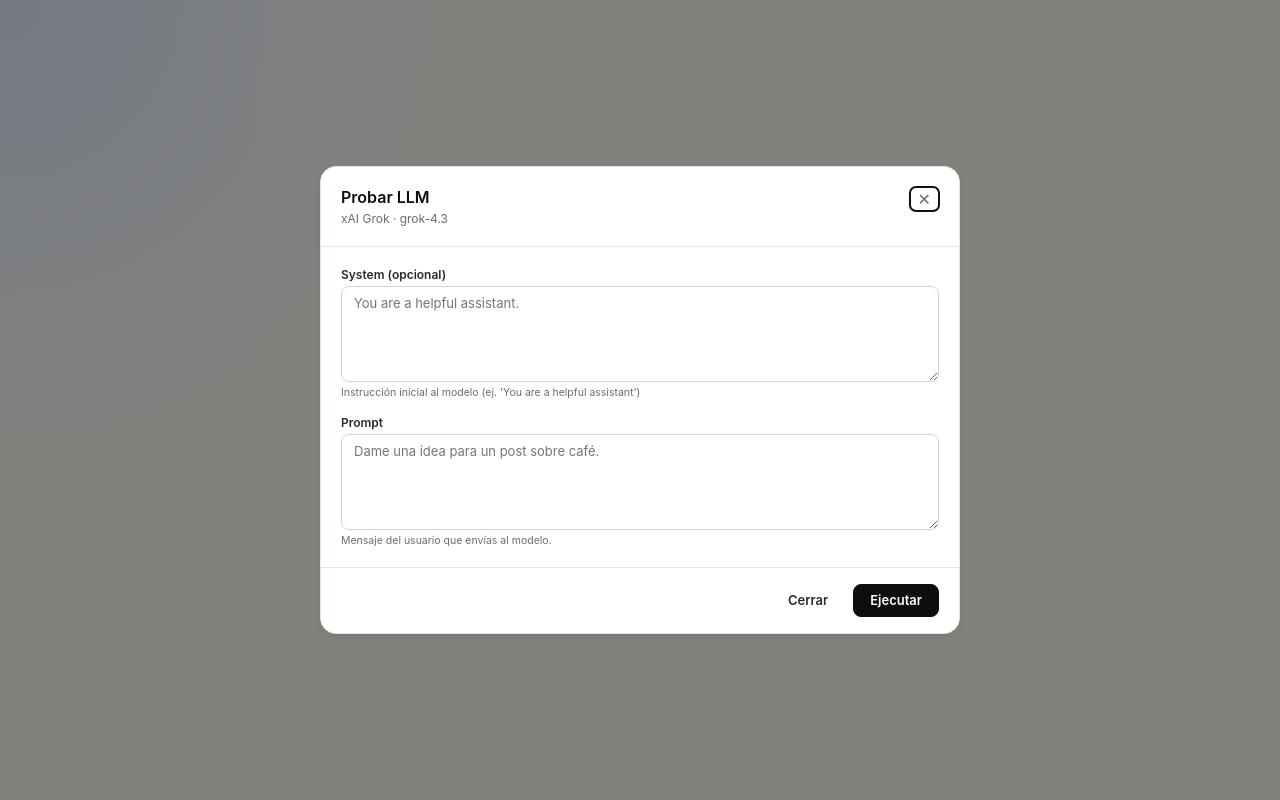
it: <TestProviderModal/> — render › LLM modality: prompt + system inputs, ejecuta y muestra resultado text
Type "Hola" into the text box with placeholder "Dame una idea para un post sobre café." at (640, 482), box [341,434,939,530]
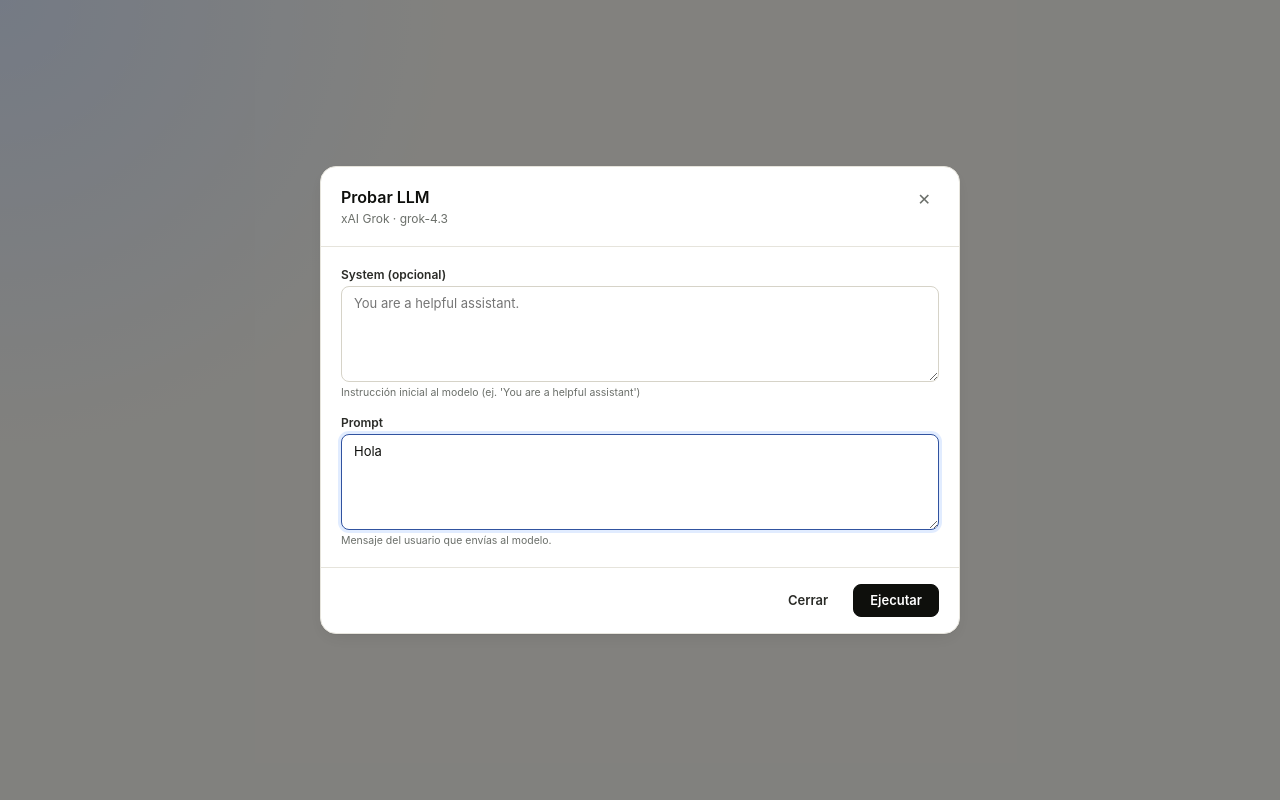
Click the button "Ejecutar" at (896, 600), box [853,584,939,617]
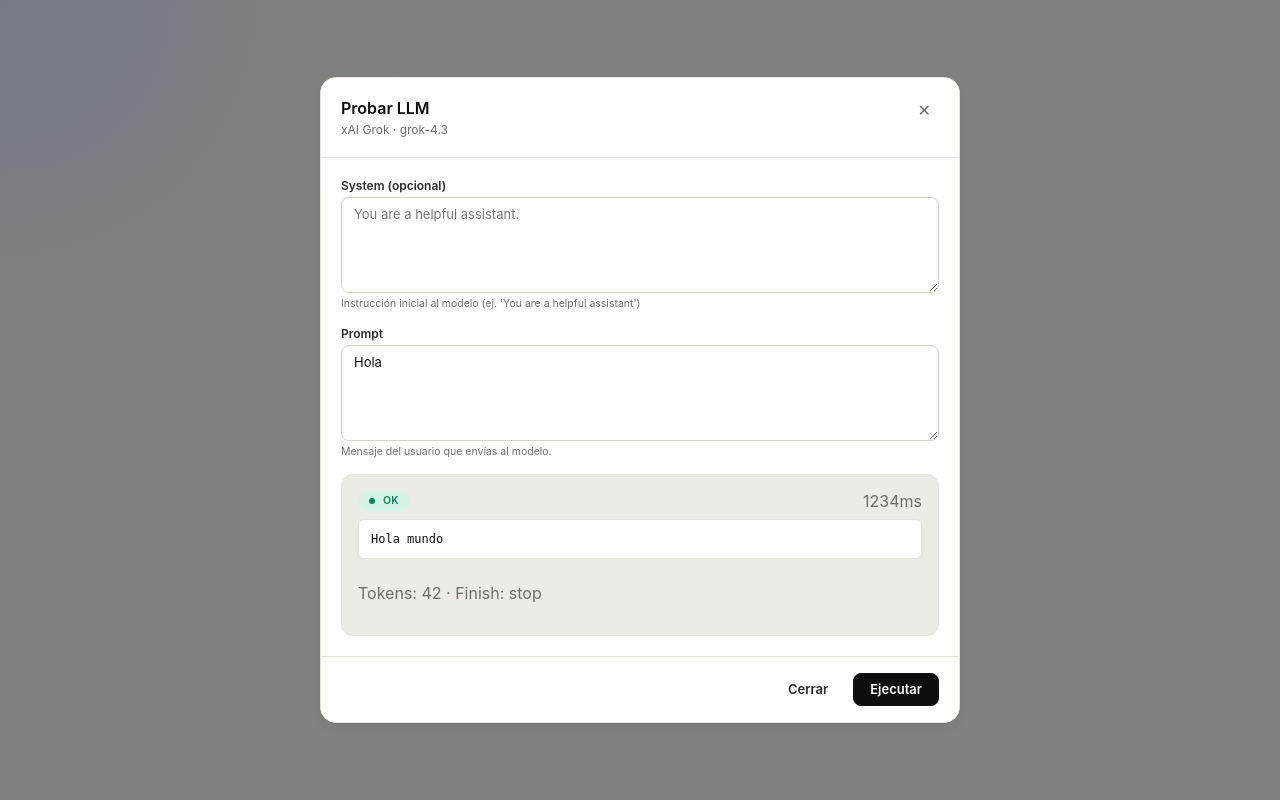
Now the element with test id "test-result-ok" is shown, box [341,474,939,636]
Now the text "Hola mundo" is shown, box [358,519,922,559]
Now the text "Tokens: 42 · Finish: stop" is shown, box [358,583,542,603]
